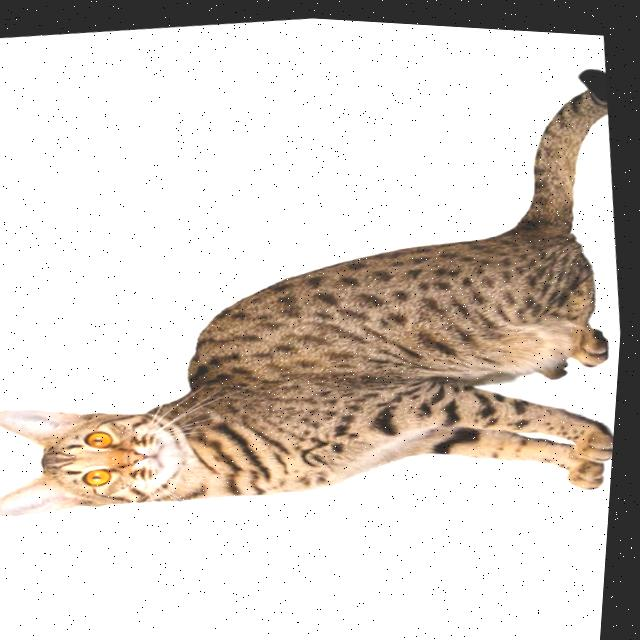Savannah: (0, 27, 639, 558)
